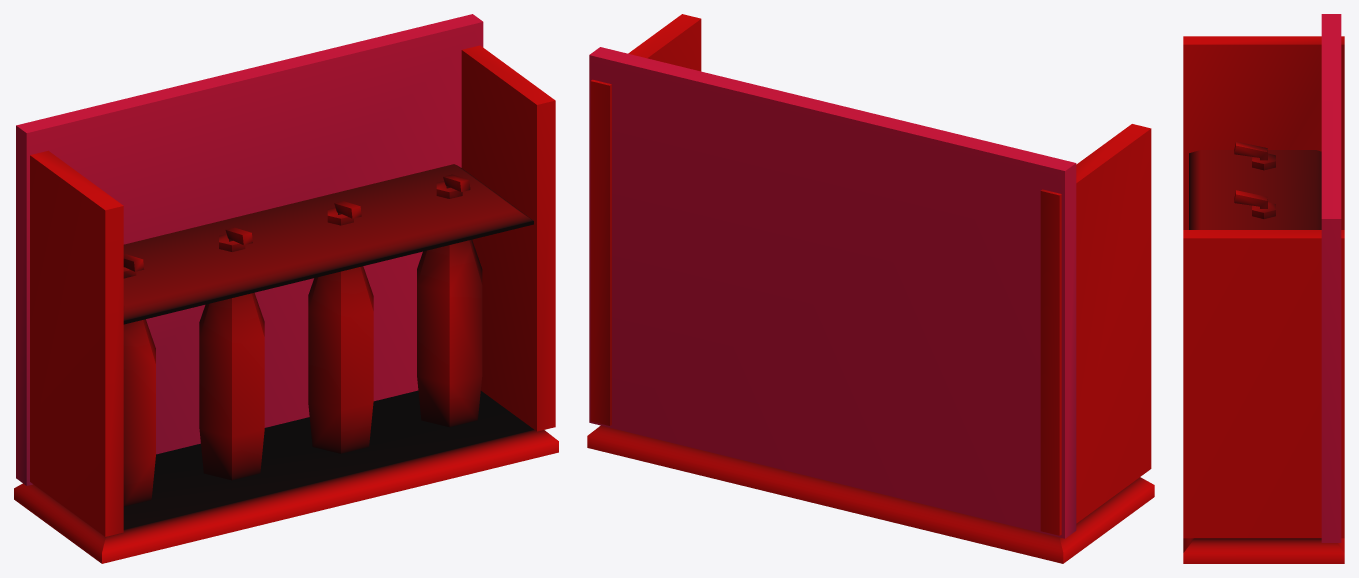
The model's file is CI_Cafe_SyrupRack.glb.
The picture shows the model from 3 angles, left to right: view 1: azimuth 30°, elevation 25°; view 2: azimuth 150°, elevation 25°; view 3: azimuth 270°, elevation 25°; orthographic projection. The views are drawn at different scales.
Parts seen in each view (by area): view 1: CI_Cafe_SyrupRack; view 2: CI_Cafe_SyrupRack; view 3: CI_Cafe_SyrupRack.
Boxes of the visible parts, box(x1,y1,x2,y2) form: CI_Cafe_SyrupRack: box(14, 14, 558, 563); CI_Cafe_SyrupRack: box(587, 14, 1154, 563); CI_Cafe_SyrupRack: box(1183, 14, 1344, 563).
Bounding box in the file's own units: 0.42 × 0.33 × 0.14.
